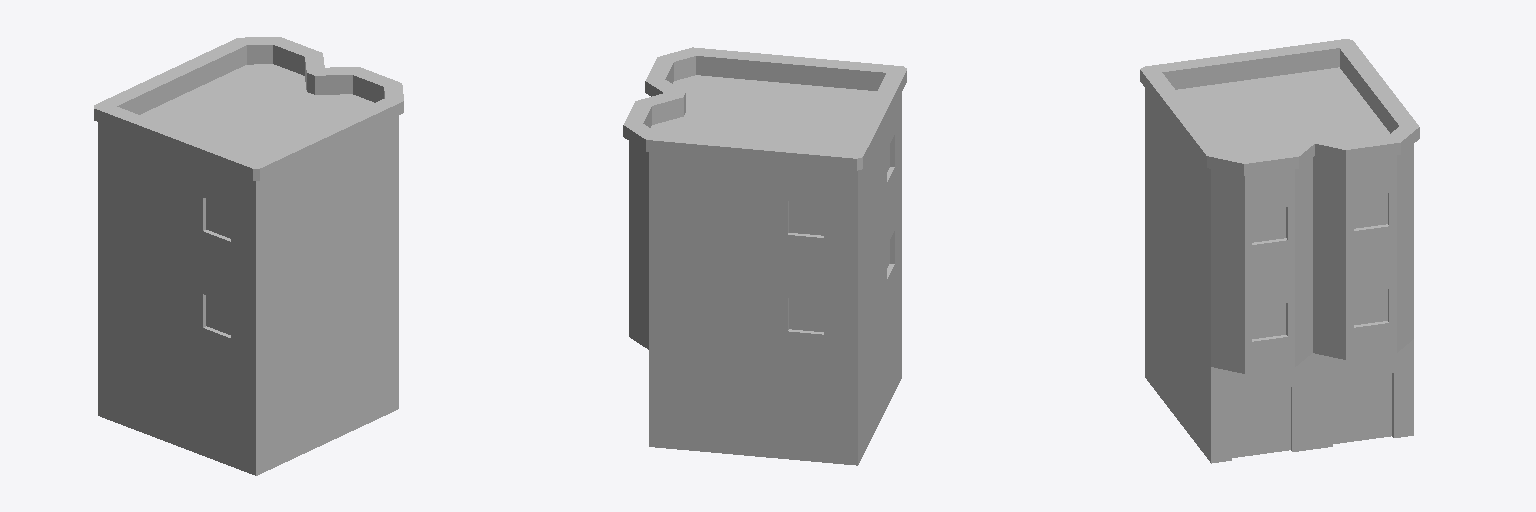
The model's file is variant_40.obj.
The picture shows the model from 3 angles: view 1: azimuth 30°, elevation 25°; view 2: azimuth 150°, elevation 25°; view 3: azimuth 270°, elevation 25°; orthographic projection.
Visible parts, largest first — view 1: Building; view 2: Building; view 3: Building.
Part boxes in pixels (bbox=[...]): Building: bbox=[94, 37, 403, 475]; Building: bbox=[623, 47, 906, 465]; Building: bbox=[1140, 39, 1419, 463].
Size of the model in its own units: 1.11 by 1.28 by 1.05.